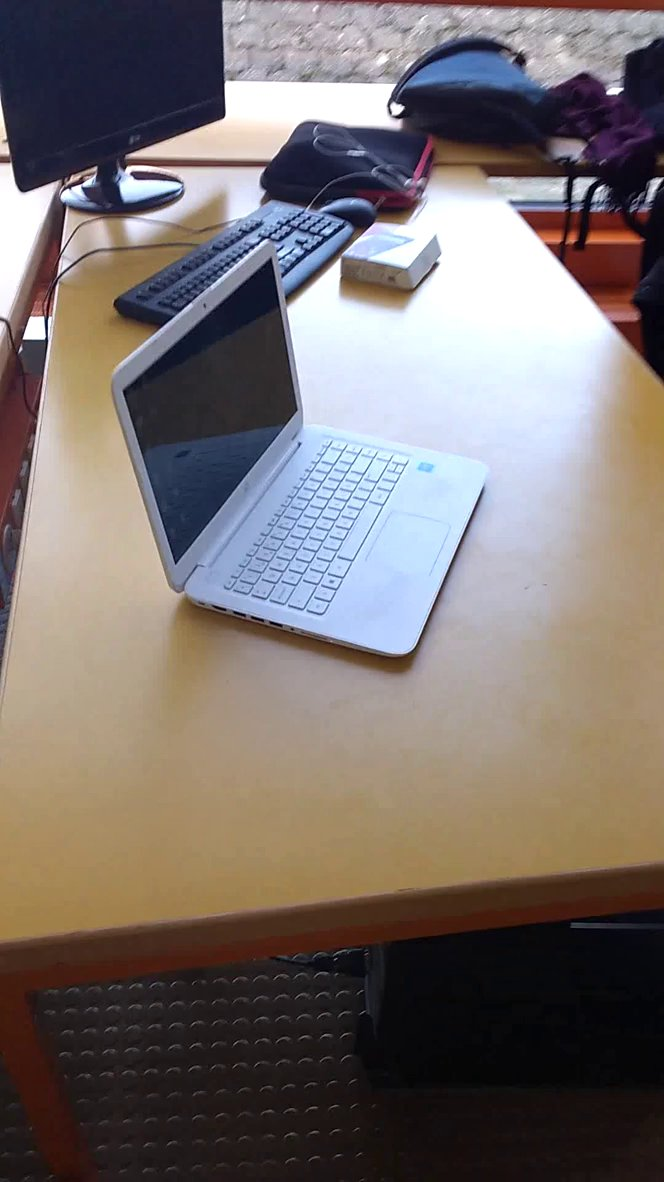bag: (391, 26, 576, 161)
laptop: (99, 231, 499, 678)
